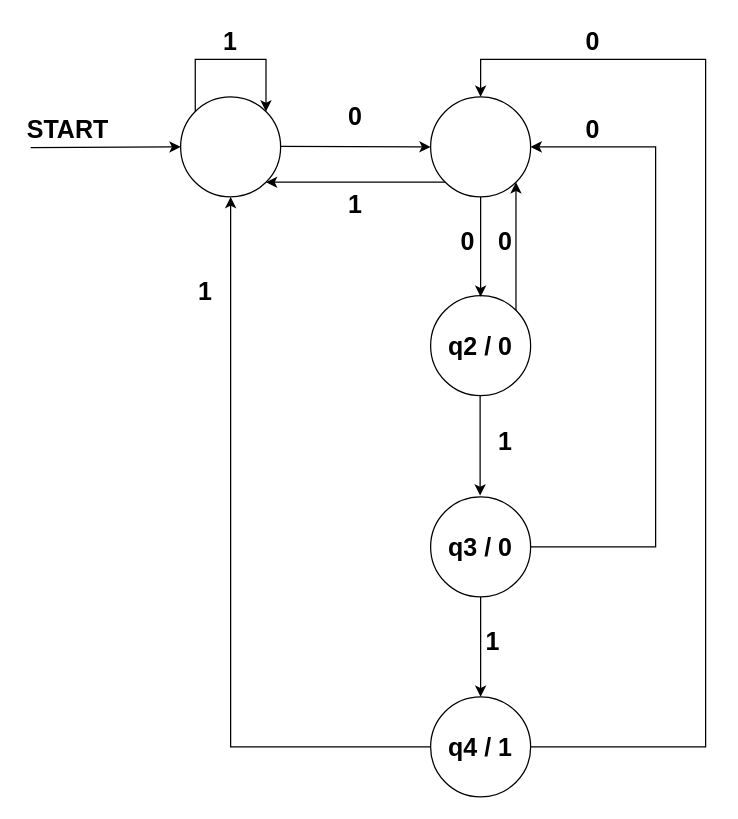
Image size: 738x819. Some labels were removed from this diagram. The box of each missing label's shape, as (x1, y1, x2, y2) in pixels:
q0 / 0: (179, 96, 281, 197)
q1 / 0: (429, 96, 531, 197)
